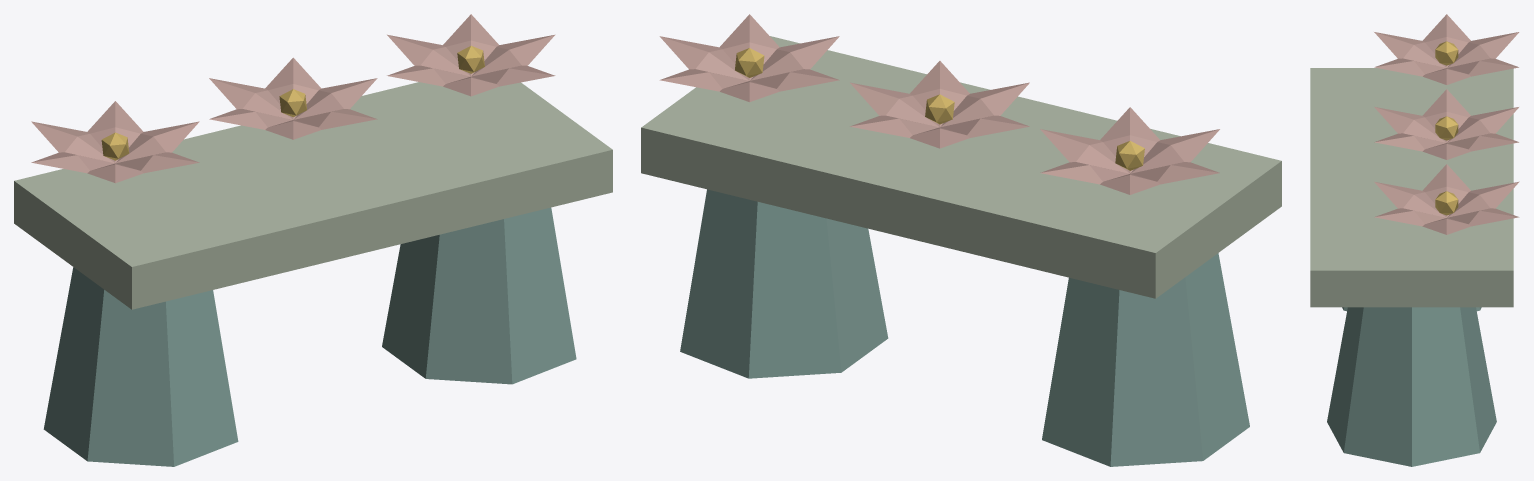
The model's file is map-exclusive-v3__tide_08.glb.
The picture shows the model from 3 angles, left to right: view 1: azimuth 30°, elevation 25°; view 2: azimuth 150°, elevation 25°; view 3: azimuth 270°, elevation 25°; orthographic projection. The views are drawn at different scales.
Parts seen in each view (by area): view 1: tide_08; view 2: tide_08; view 3: tide_08.
Part boxes in pixels (x1,y1,x2,y2): tide_08: (14, 14, 612, 466); tide_08: (641, 14, 1281, 466); tide_08: (1310, 14, 1519, 466).
Bounding box in the file's own units: 1.8 × 0.9214 × 0.7212.
